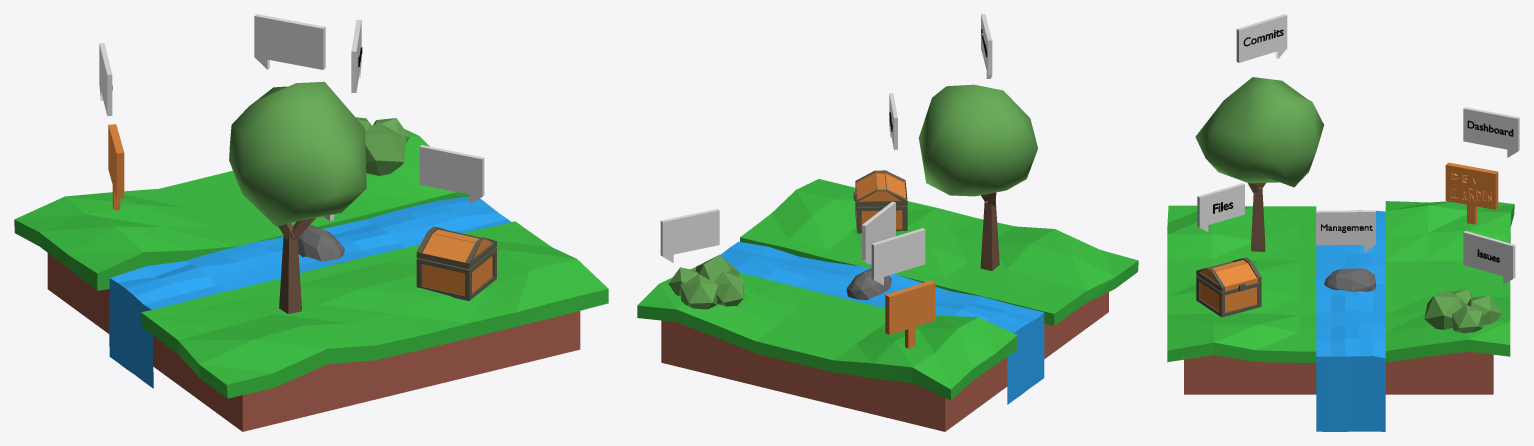
File: terrain.glb
The picture shows the model from 3 angles, left to right: view 1: azimuth 30°, elevation 25°; view 2: azimuth 150°, elevation 25°; view 3: azimuth 270°, elevation 25°; orthographic projection. The views are drawn at different scales.
Visible parts, largest first — view 1: GrassObject, TerrainWaterObject, FeuillageObject, Chest, SpeechArbre, SpeechChest, Icosphere.008, TroncObject, Icosphere.006, PlaqueObject, SpeechPlaque, SpeechArbustre; view 2: GrassObject, TerrainWaterObject, FeuillageObject, Icosphere.008, Chest, SpeechArbustre, PlaqueObject, SpeechPlaque, TroncObject, SpeechRock, Icosphere.006, SpeechArbre; view 3: GrassObject, TerrainWaterObject, FeuillageObject, Chest, Icosphere.008, PlaqueObject, SpeechRock, SpeechPlaque, SpeechArbustre, SpeechArbre, SpeechChest, Icosphere.006 (+1 smaller).
Part boxes in pixels (x1,y1,x2,y2): GrassObject: (14, 125, 608, 398); TerrainWaterObject: (47, 196, 580, 431); FeuillageObject: (229, 81, 366, 226); Chest: (416, 226, 496, 300); SpeechArbre: (254, 14, 325, 69); SpeechChest: (419, 145, 484, 203); Icosphere.008: (356, 117, 409, 175); TroncObject: (278, 217, 315, 313); Icosphere.006: (297, 225, 344, 263); PlaqueObject: (108, 124, 124, 198); SpeechPlaque: (99, 43, 112, 116); SpeechArbustre: (351, 19, 361, 92); GrassObject: (637, 179, 1138, 400); TerrainWaterObject: (661, 241, 1108, 431); FeuillageObject: (918, 84, 1037, 196); Icosphere.008: (668, 254, 744, 309); Chest: (853, 170, 907, 233); SpeechArbustre: (660, 209, 719, 262); PlaqueObject: (885, 280, 935, 334); SpeechPlaque: (871, 228, 925, 285); TroncObject: (980, 192, 999, 270); SpeechRock: (862, 201, 895, 264); Icosphere.006: (846, 268, 891, 299); SpeechArbre: (981, 14, 992, 78); GrassObject: (1167, 201, 1514, 362); TerrainWaterObject: (1184, 210, 1493, 431); FeuillageObject: (1195, 77, 1323, 187); Chest: (1196, 257, 1261, 317); Icosphere.008: (1424, 289, 1501, 333); PlaqueObject: (1445, 162, 1498, 209); SpeechRock: (1316, 210, 1375, 252); SpeechPlaque: (1463, 107, 1519, 157); SpeechArbustre: (1463, 231, 1515, 284); SpeechArbre: (1236, 14, 1287, 62); SpeechChest: (1197, 183, 1244, 232); Icosphere.006: (1324, 268, 1376, 291).
Size of the model in its own units: 13.64 by 13.18 by 13.66.
